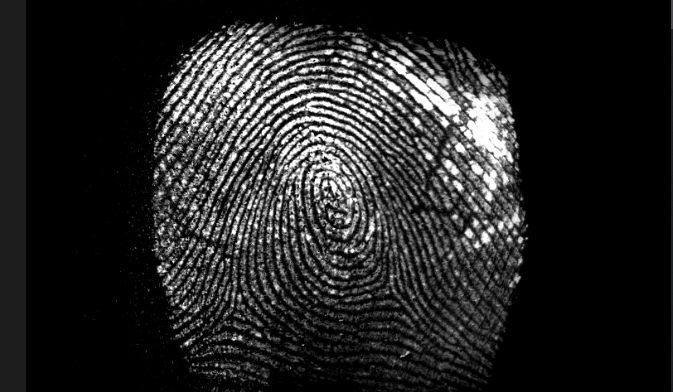nucelo: (316, 172, 351, 224)
verticilo: (218, 294, 255, 330), (372, 267, 406, 304)
